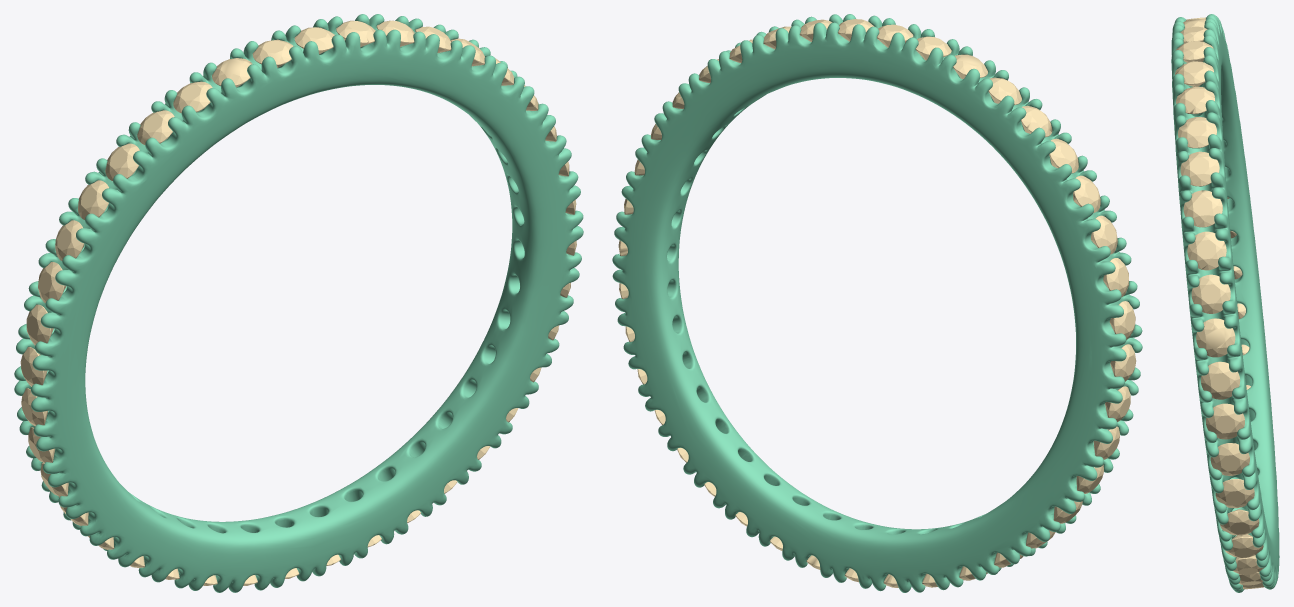
The picture shows the model from 3 angles, left to right: view 1: azimuth 30°, elevation 25°; view 2: azimuth 150°, elevation 25°; view 3: azimuth 270°, elevation 25°; orthographic projection. The views are drawn at different scales.
Visible parts, largest first — view 1: Metal02, Diamond_Round.024, Diamond_Round.023, Diamond_Round.022, Diamond_Round.025, Diamond_Round.026, Diamond_Round.021, Diamond_Round.027, Diamond_Round.020; view 2: Metal02; view 3: Metal02, Diamond_Round.033, Diamond_Round.032, Diamond_Round.034, Diamond_Round.031, Diamond_Round.035, Diamond_Round.030, Diamond_Round.036, Diamond_Round.018, Diamond_Round.037, Diamond_Round.017, Diamond_Round.038 (+8 smaller).
Boxes of the visible parts, x1,y1,x2,y2 form: Metal02: (14,14,583,592); Diamond_Round.024: (105,143,139,181); Diamond_Round.023: (137,110,174,144); Diamond_Round.022: (173,81,212,113); Diamond_Round.025: (78,180,108,219); Diamond_Round.026: (55,220,84,260); Diamond_Round.021: (212,58,252,87); Diamond_Round.027: (38,262,66,303); Diamond_Round.020: (252,39,293,67); Metal02: (612,14,1142,592); Metal02: (1171,14,1279,592); Diamond_Round.033: (1191,274,1230,313); Diamond_Round.032: (1196,318,1235,357); Diamond_Round.034: (1187,231,1226,270); Diamond_Round.031: (1201,361,1240,399); Diamond_Round.035: (1183,190,1222,227); Diamond_Round.030: (1206,403,1244,439); Diamond_Round.036: (1180,151,1219,186); Diamond_Round.018: (1210,443,1249,475); Diamond_Round.037: (1178,117,1216,148); Diamond_Round.017: (1215,479,1254,508); Diamond_Round.038: (1176,86,1214,114).
Size of the model in its own units: 20.62 by 20.61 by 3.85.
